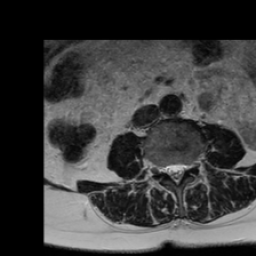CCS_normal: (173, 157, 179, 190)
LFS_stenosis: (186, 155, 194, 178)
LLS_normal: (179, 156, 186, 181)
RFS_normal: (158, 157, 165, 179)
RLS_normal: (165, 157, 173, 182)
